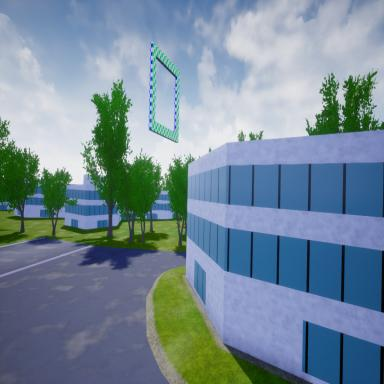gate: (148, 40, 181, 146)
